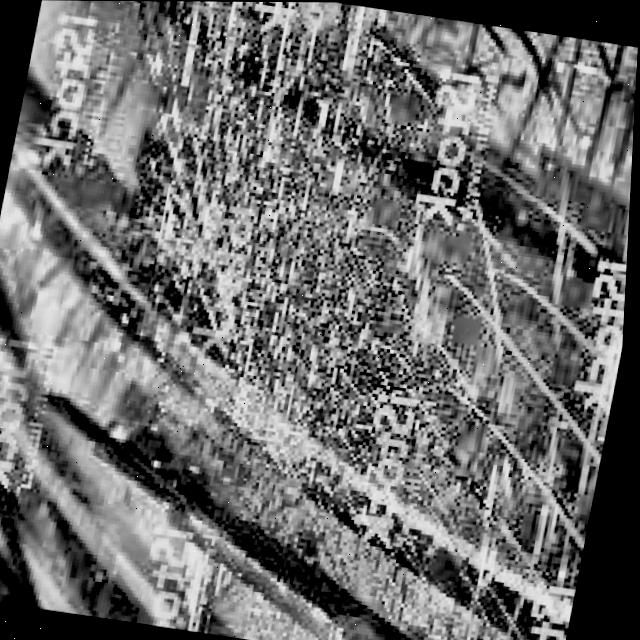glass_shatter: (59, 1, 471, 480)
